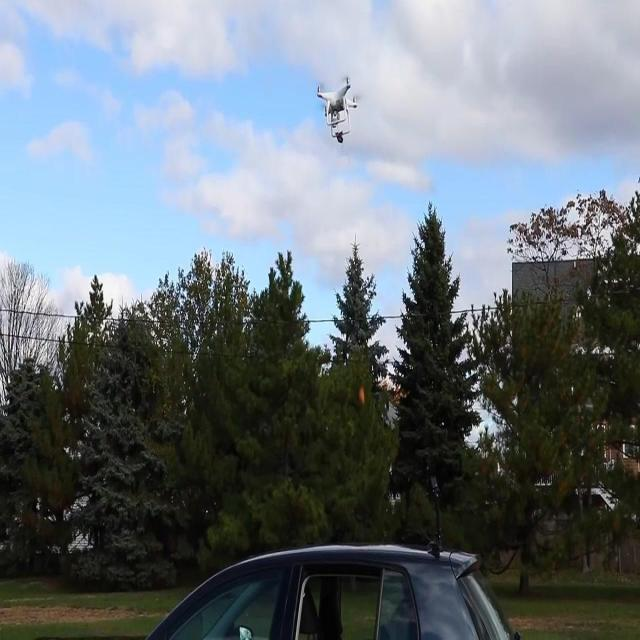drone: (314, 73, 359, 148)
